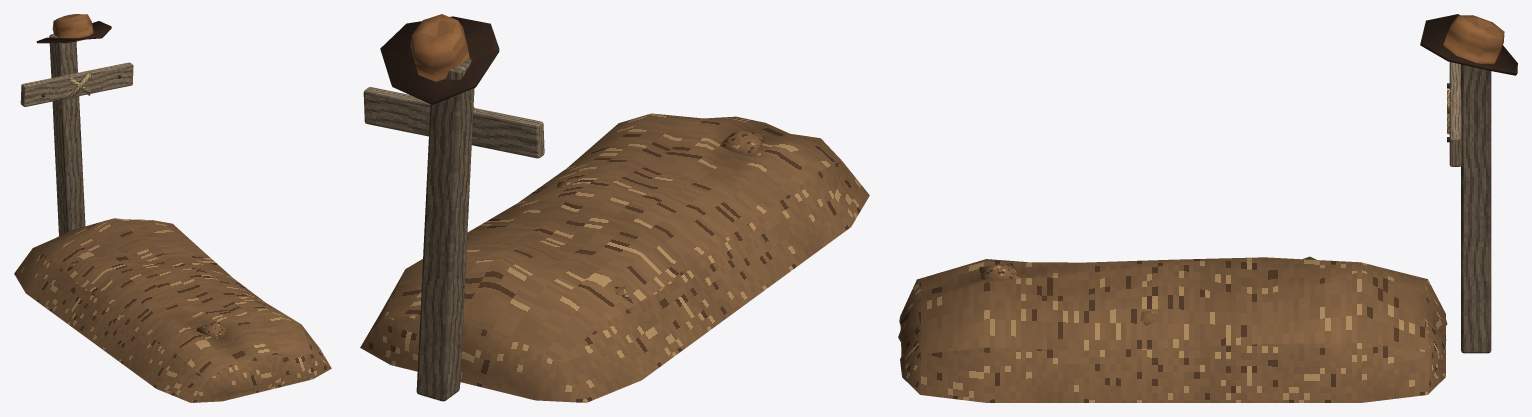
The model's file is p_grave_cross.glb.
3 renders of one model, left to right at view 1: azimuth 30°, elevation 25°; view 2: azimuth 150°, elevation 25°; view 3: azimuth 270°, elevation 25°, orthographic. The views are drawn at different scales.
Visible parts, largest first — view 1: p_grave_cross_lod0; view 2: p_grave_cross_lod0; view 3: p_grave_cross_lod0.
Boxes of the visible parts, box(x1,y1,x2,y2) form: p_grave_cross_lod0: box(14, 14, 331, 402); p_grave_cross_lod0: box(360, 14, 869, 402); p_grave_cross_lod0: box(898, 14, 1517, 402).
Size of what is drawn, in the model's own units: 0.9 by 1.21 by 2.05.
Materials: 1 (1 with a texture image).
